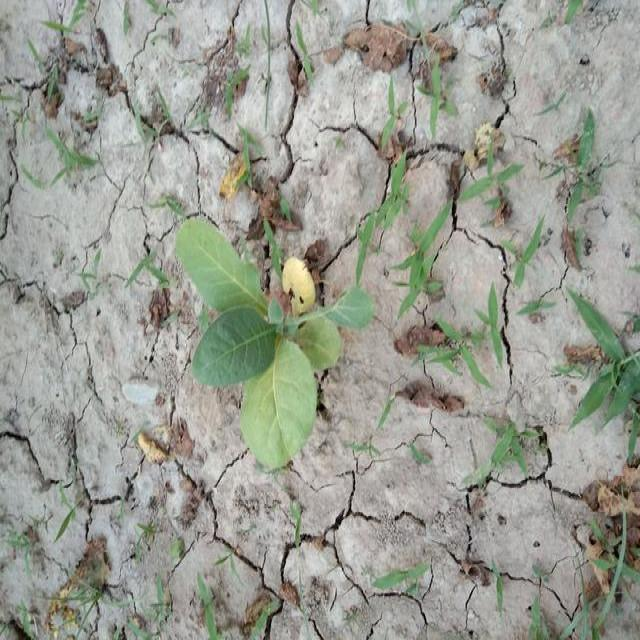crop: (176, 214, 376, 462)
